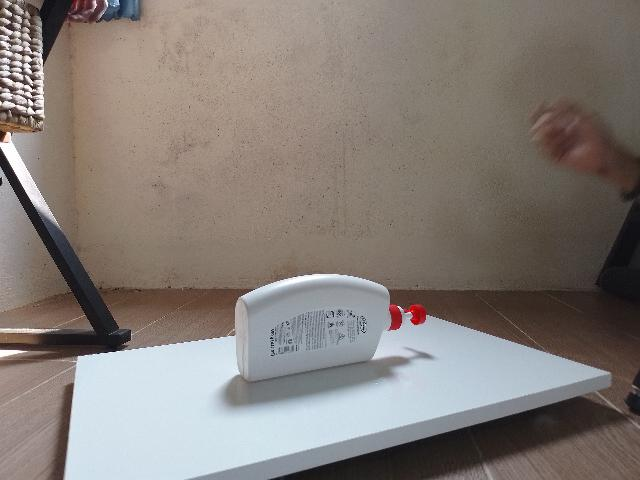life-buoy: (235, 274, 428, 383)
